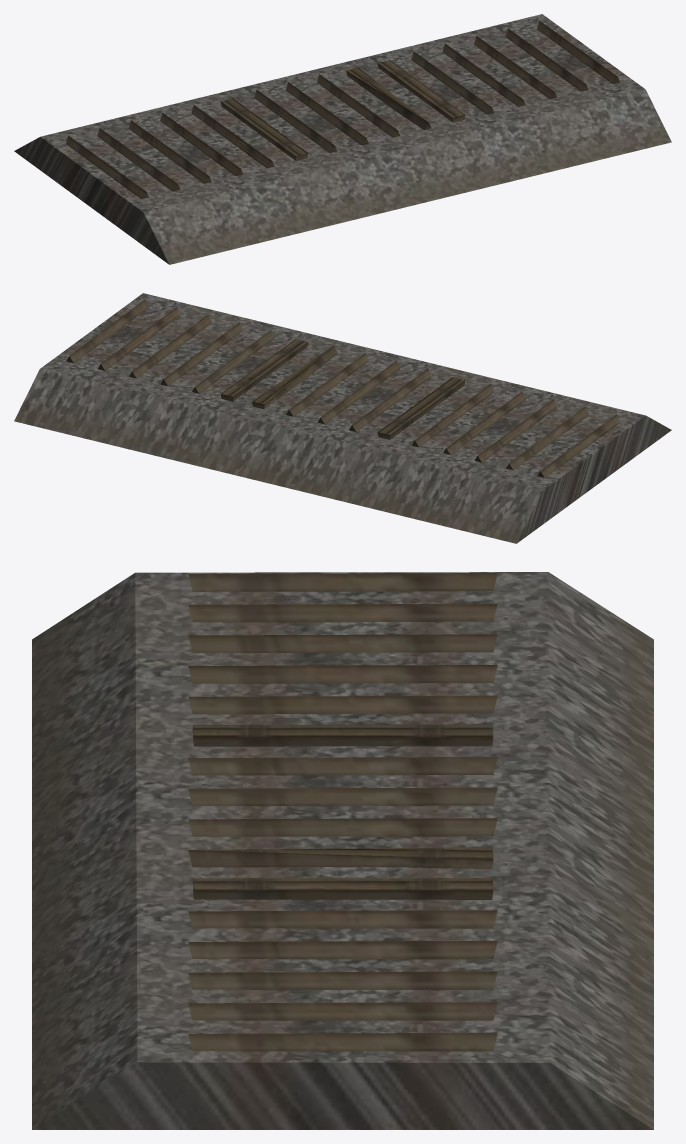
Rendered from rail-track-wood-lod1.glb.
3 views of the same model, one above another, from view 1: azimuth 30°, elevation 25°; view 2: azimuth 150°, elevation 25°; view 3: azimuth 270°, elevation 25° (orthographic). The views are drawn at different scales.
Parts seen in each view (by area): view 1: rail-track-wood.001; view 2: rail-track-wood.001; view 3: rail-track-wood.001.
Part boxes in pixels (bbox=[...]): rail-track-wood.001: bbox=[14, 14, 671, 264]; rail-track-wood.001: bbox=[14, 293, 671, 543]; rail-track-wood.001: bbox=[32, 572, 653, 1129].
Size of the model in its own units: 10 by 0.7727 by 5.36.
Materials: 1 (1 with a texture image).
